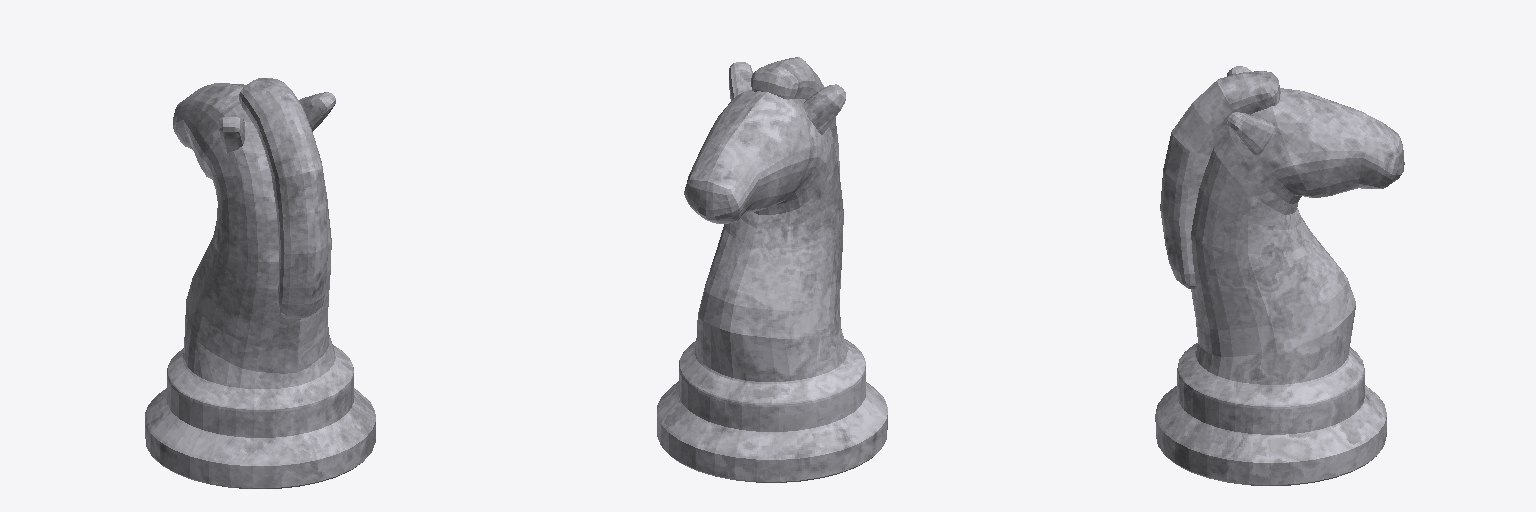
The picture shows the model from 3 angles: view 1: azimuth 30°, elevation 25°; view 2: azimuth 150°, elevation 25°; view 3: azimuth 270°, elevation 25°; orthographic projection.
Visible parts, largest first — view 1: GEO_WhiteKnight_02; view 2: GEO_WhiteKnight_02; view 3: GEO_WhiteKnight_02.
Boxes of the visible parts, x1,y1,x2,y2 form: GEO_WhiteKnight_02: [145, 78, 375, 488]; GEO_WhiteKnight_02: [657, 57, 887, 482]; GEO_WhiteKnight_02: [1155, 66, 1404, 485].
Bounding box in the file's own units: 0.0377 × 0.0655 × 0.0406.
Materials: 1 (1 with a texture image).